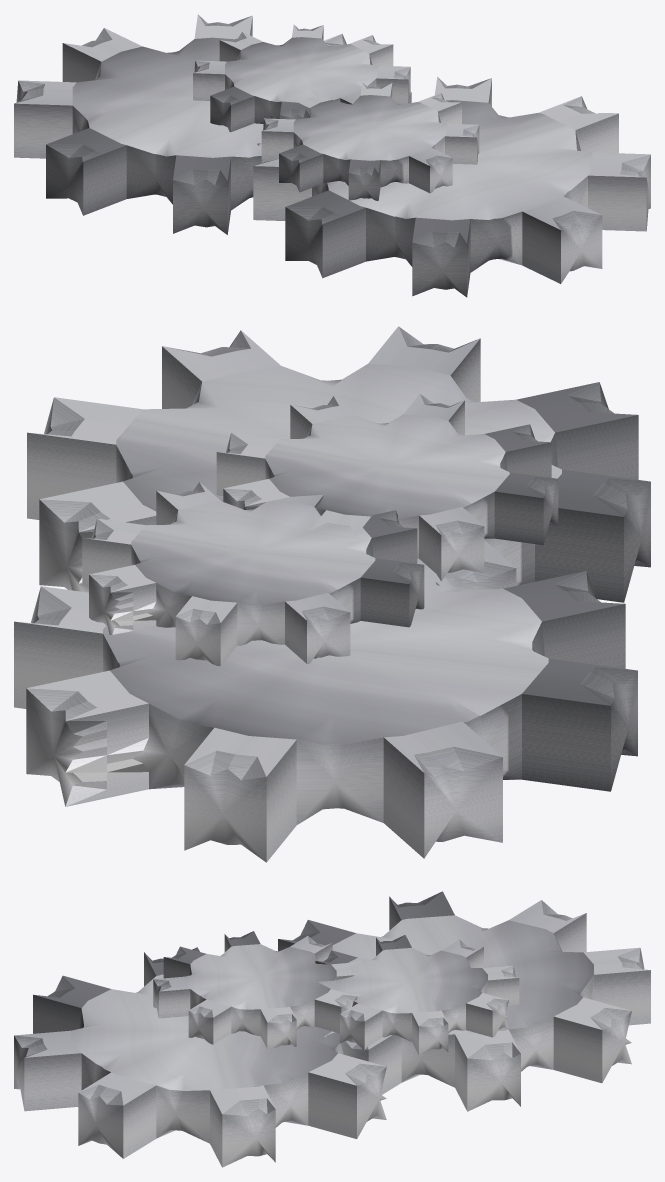
The model's file is GearWheels.fbx.
3 views of the same model, one above another, from view 1: azimuth 30°, elevation 25°; view 2: azimuth 150°, elevation 25°; view 3: azimuth 270°, elevation 25° (orthographic). The views are drawn at different scales.
Visible parts, largest first — view 1: Gear Wheel Large, Gear Wheel Large001, Gear Wheel Small, Gear Wheel Small001; view 2: Gear Wheel Large001, Gear Wheel Large, Gear Wheel Small001, Gear Wheel Small; view 3: Gear Wheel Large, Gear Wheel Large001, Gear Wheel Small, Gear Wheel Small001.
Part boxes in pixels (x1,y1,x2,y2): Gear Wheel Large: [253, 77, 650, 297]; Gear Wheel Large001: [14, 14, 411, 234]; Gear Wheel Small: [261, 82, 479, 200]; Gear Wheel Small001: [193, 24, 410, 132]; Gear Wheel Large001: [14, 558, 637, 862]; Gear Wheel Large: [27, 326, 650, 602]; Gear Wheel Small001: [82, 482, 424, 666]; Gear Wheel Small: [216, 394, 558, 581]; Gear Wheel Large: [14, 947, 386, 1167]; Gear Wheel Large001: [278, 891, 650, 1111]; Gear Wheel Small: [153, 931, 366, 1049]; Gear Wheel Small001: [315, 935, 519, 1055].
Size of the model in its own units: 72.97 by 12.27 by 88.08.
